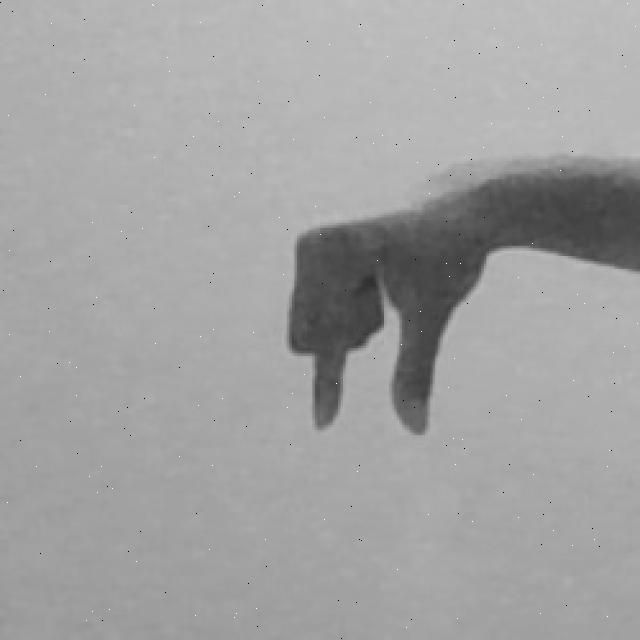Q: (281, 146, 640, 444)
